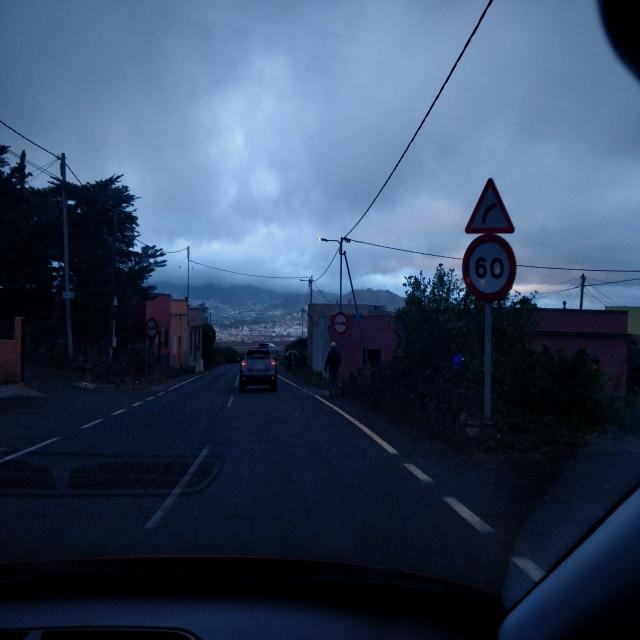car: (238, 343, 278, 392)
